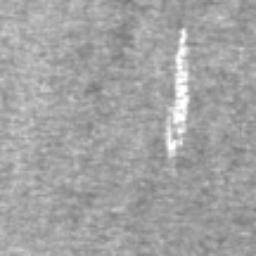White rust: (165, 28, 190, 159)
